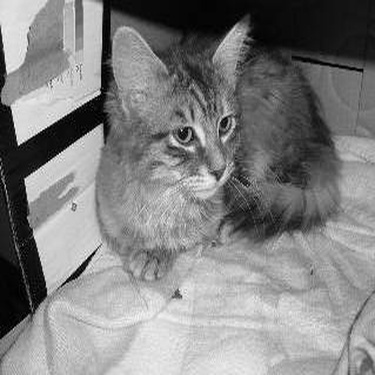cat: (75, 12, 332, 278)
